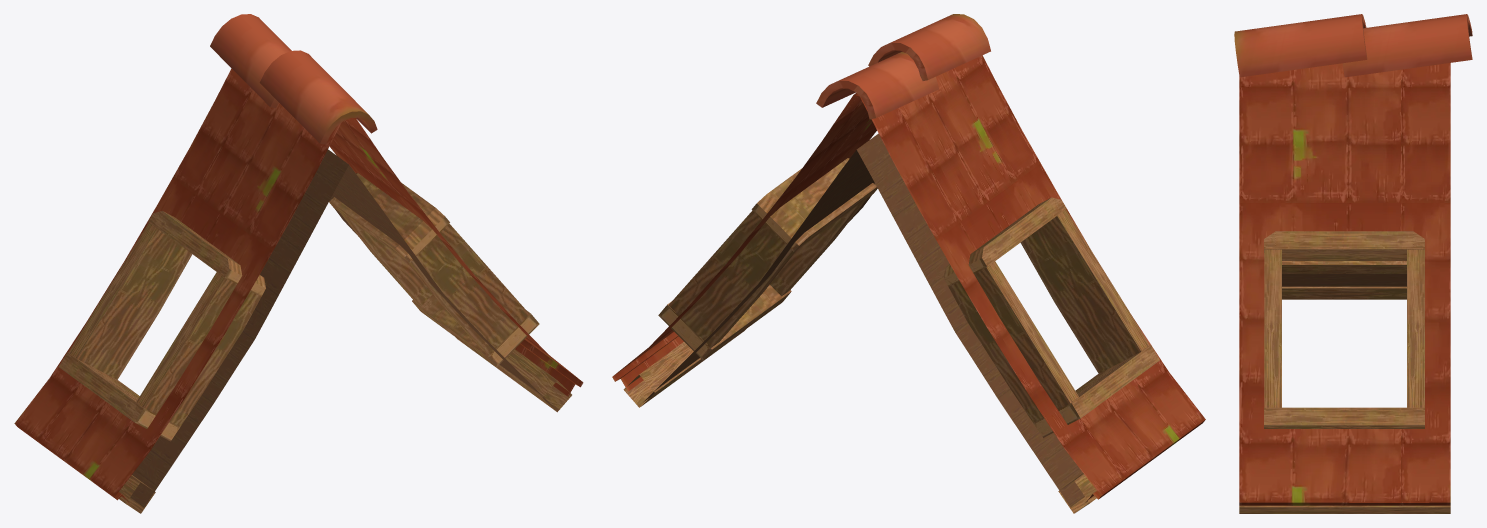
Rendered from Roof_Modular_FlatTiles_4_Dormer.glb.
3 views of the same model, side by side, from view 1: azimuth 30°, elevation 25°; view 2: azimuth 150°, elevation 25°; view 3: azimuth 270°, elevation 25° (orthographic). The views are drawn at different scales.
Visible parts, largest first — view 1: Roof_Modular_FlatTiles_4_Dormer; view 2: Roof_Modular_FlatTiles_4_Dormer; view 3: Roof_Modular_FlatTiles_4_Dormer.
Part boxes in pixels (x1,y1,x2,y2): Roof_Modular_FlatTiles_4_Dormer: (14, 14, 583, 513); Roof_Modular_FlatTiles_4_Dormer: (612, 14, 1205, 513); Roof_Modular_FlatTiles_4_Dormer: (1234, 14, 1472, 513).
Bounding box in the file's own units: 5.39 × 4.07 × 2.25.
Materials: 3 (3 with a texture image).
